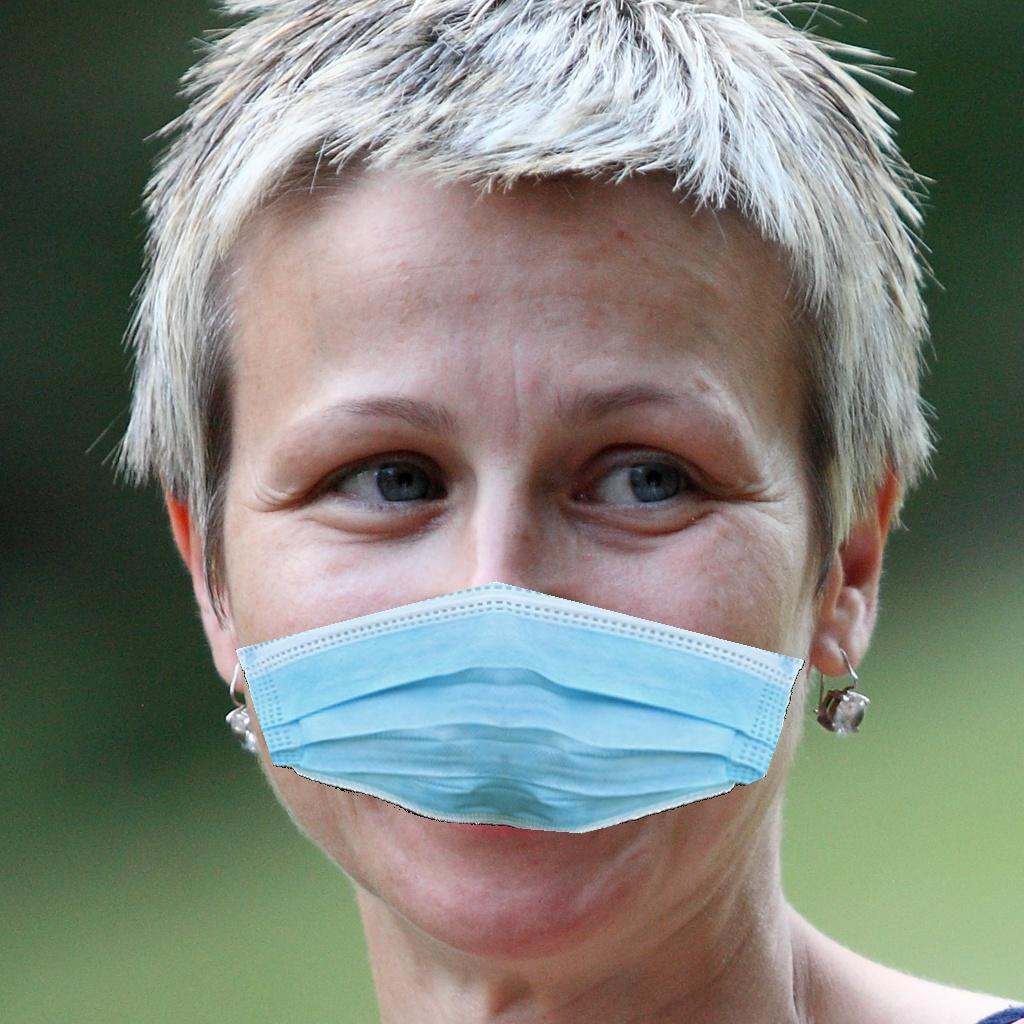Máscara Incorreta: (233, 280, 817, 916)
